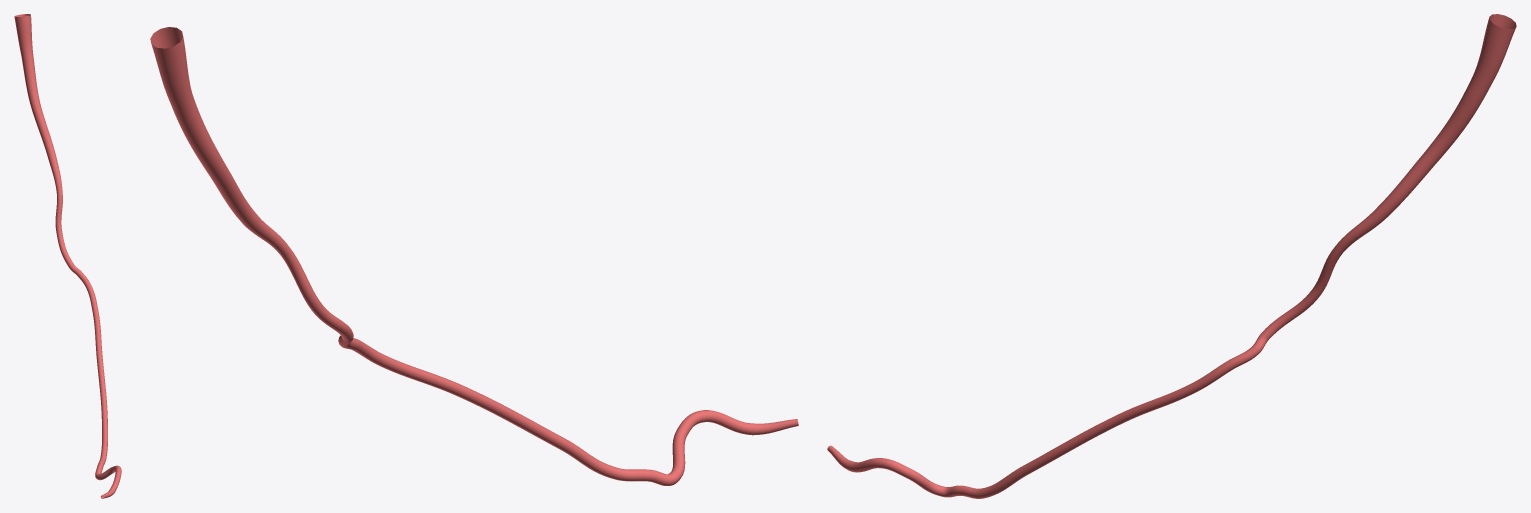
Rendered from Inferior_alveolar_artery.r_BezierCurve.089.glb.
The picture shows the model from 3 angles, left to right: view 1: azimuth 30°, elevation 25°; view 2: azimuth 150°, elevation 25°; view 3: azimuth 270°, elevation 25°; orthographic projection. The views are drawn at different scales.
Parts seen in each view (by area): view 1: Inferior_alveolar_artery.r_BezierCurve.089; view 2: Inferior_alveolar_artery.r_BezierCurve.089; view 3: Inferior_alveolar_artery.r_BezierCurve.089.
Part boxes in pixels (x1=…): Inferior_alveolar_artery.r_BezierCurve.089: x1=14, y1=14, x2=121, y2=498; Inferior_alveolar_artery.r_BezierCurve.089: x1=150, y1=27, x2=798, y2=485; Inferior_alveolar_artery.r_BezierCurve.089: x1=827, y1=14, x2=1516, y2=498.
Bounding box in the file's own units: 0.0241 × 0.0592 × 0.0669.
